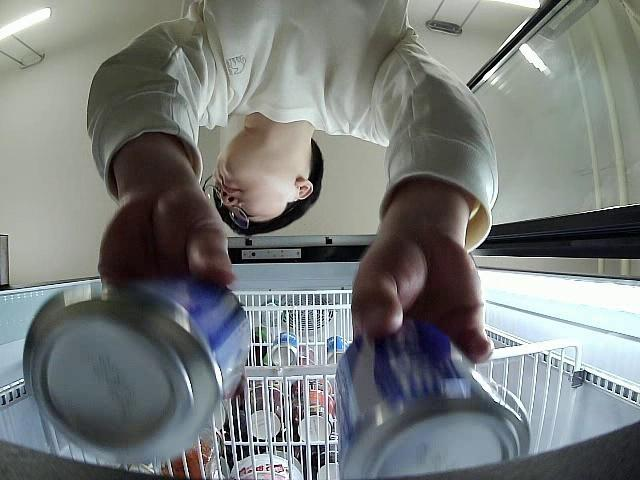13_pocariSweat: (23, 276, 252, 461), (334, 324, 531, 480)
